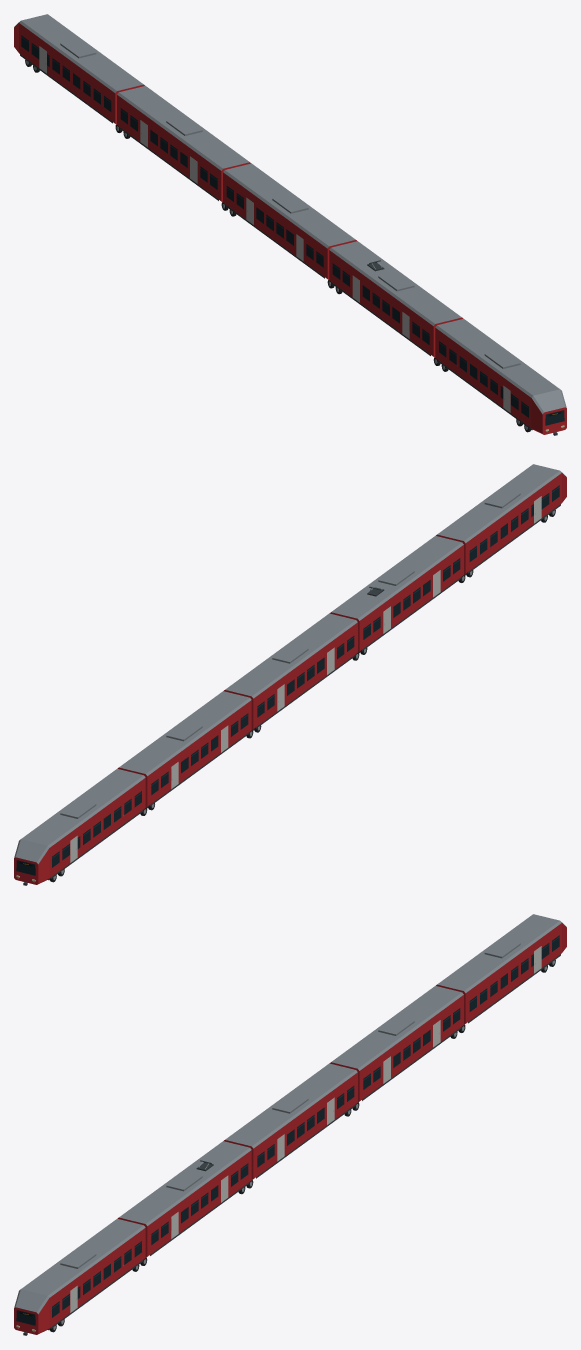
Rendered from db-talent2.glb.
The picture shows the model from 3 angles, top to bottom: view 1: azimuth 30°, elevation 25°; view 2: azimuth 150°, elevation 25°; view 3: azimuth 330°, elevation 25°; orthographic projection.
Parts seen in each view (by area): view 1: db-talent2.segment-01.005, db-talent2.segment-02.005, db-talent2.segment-03.005, db-talent2.segment-04.005, db-talent2.segment-05.005; view 2: db-talent2.segment-05.005, db-talent2.segment-04.005, db-talent2.segment-03.005, db-talent2.segment-02.005, db-talent2.segment-01.005; view 3: db-talent2.segment-01.005, db-talent2.segment-02.005, db-talent2.segment-03.005, db-talent2.segment-04.005, db-talent2.segment-05.005.
Part boxes in pixels (box(x1,y1,x2,y2)): db-talent2.segment-01.005: box(433, 318, 566, 435); db-talent2.segment-02.005: box(327, 241, 463, 357); db-talent2.segment-03.005: box(221, 163, 356, 279); db-talent2.segment-04.005: box(115, 86, 251, 202); db-talent2.segment-05.005: box(14, 14, 144, 124); db-talent2.segment-05.005: box(14, 768, 145, 885); db-talent2.segment-04.005: box(117, 691, 251, 815); db-talent2.segment-03.005: box(224, 613, 357, 738); db-talent2.segment-02.005: box(329, 536, 463, 660); db-talent2.segment-01.005: box(436, 464, 566, 582); db-talent2.segment-01.005: box(14, 1218, 147, 1335); db-talent2.segment-02.005: box(117, 1141, 253, 1257); db-talent2.segment-03.005: box(224, 1063, 359, 1179); db-talent2.segment-04.005: box(329, 986, 465, 1102); db-talent2.segment-05.005: box(436, 914, 566, 1024).
Bounding box in the file's own units: 2.97 × 4.23 × 88.44.
